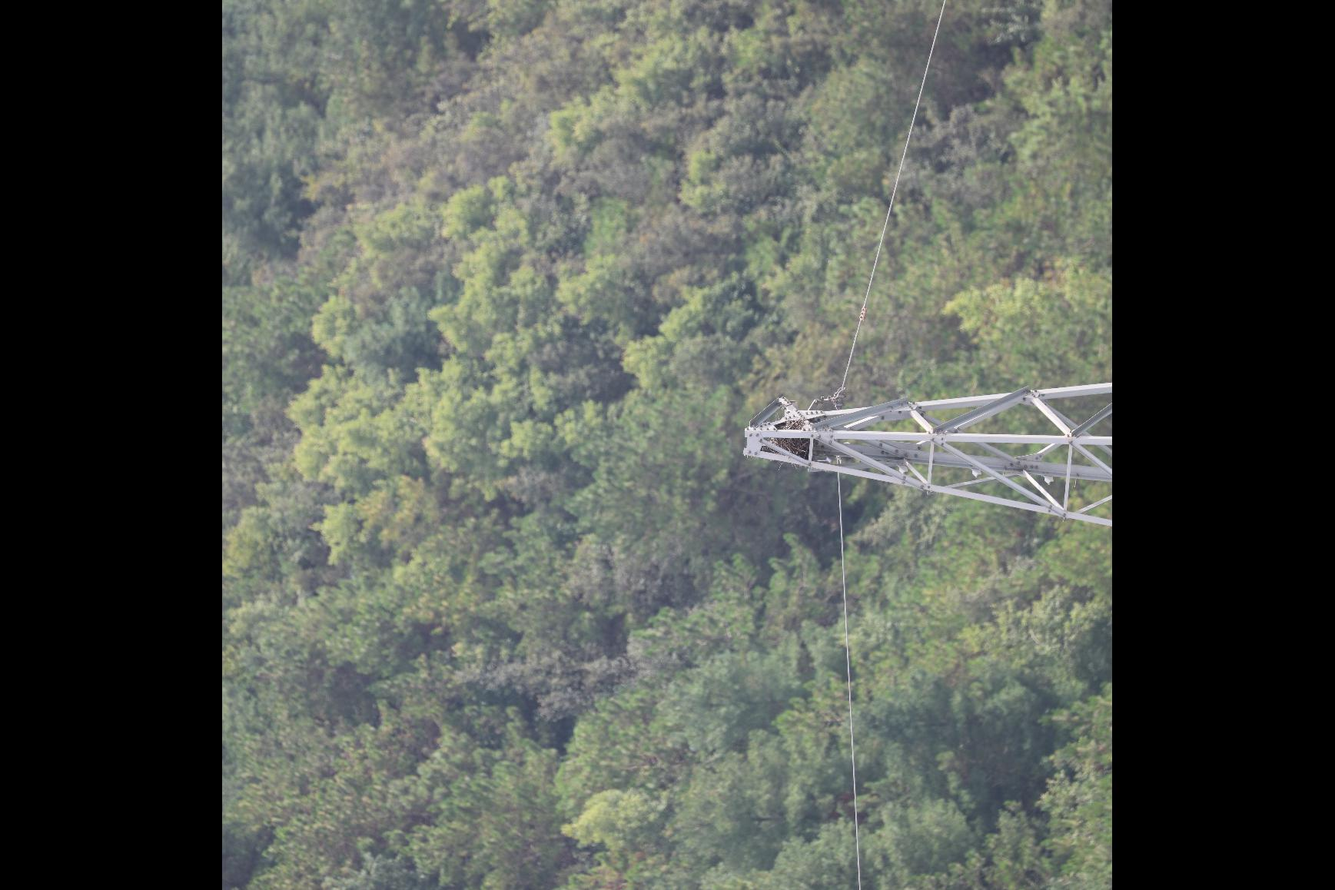nest: (772, 418, 809, 460)
